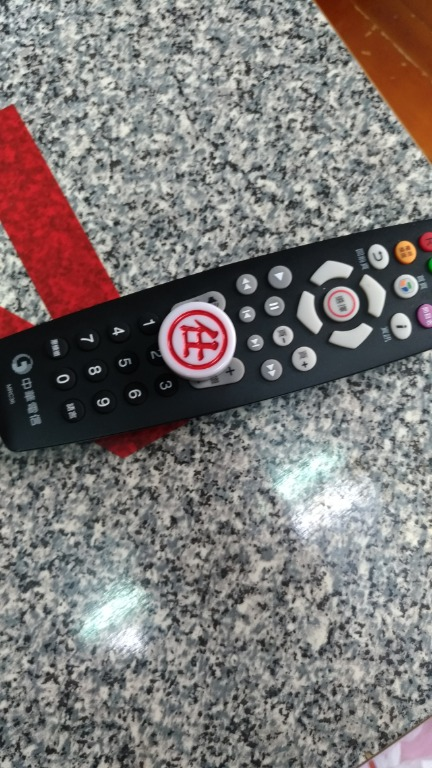r-advisor: (151, 297, 248, 377)
